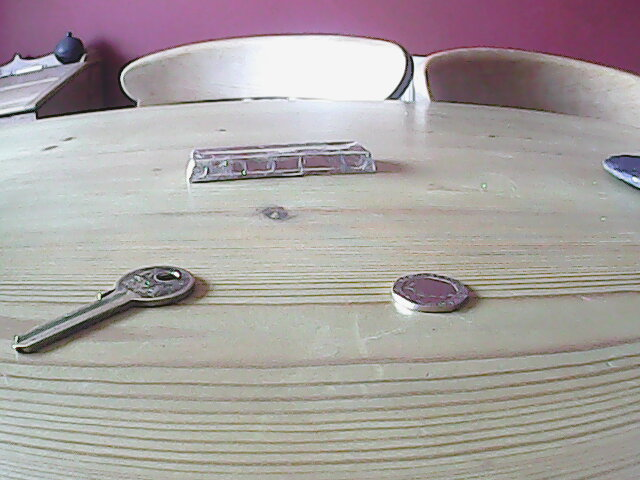Coin: (392, 270, 472, 314)
Foil: (183, 138, 384, 187)
Key: (10, 261, 199, 355)
